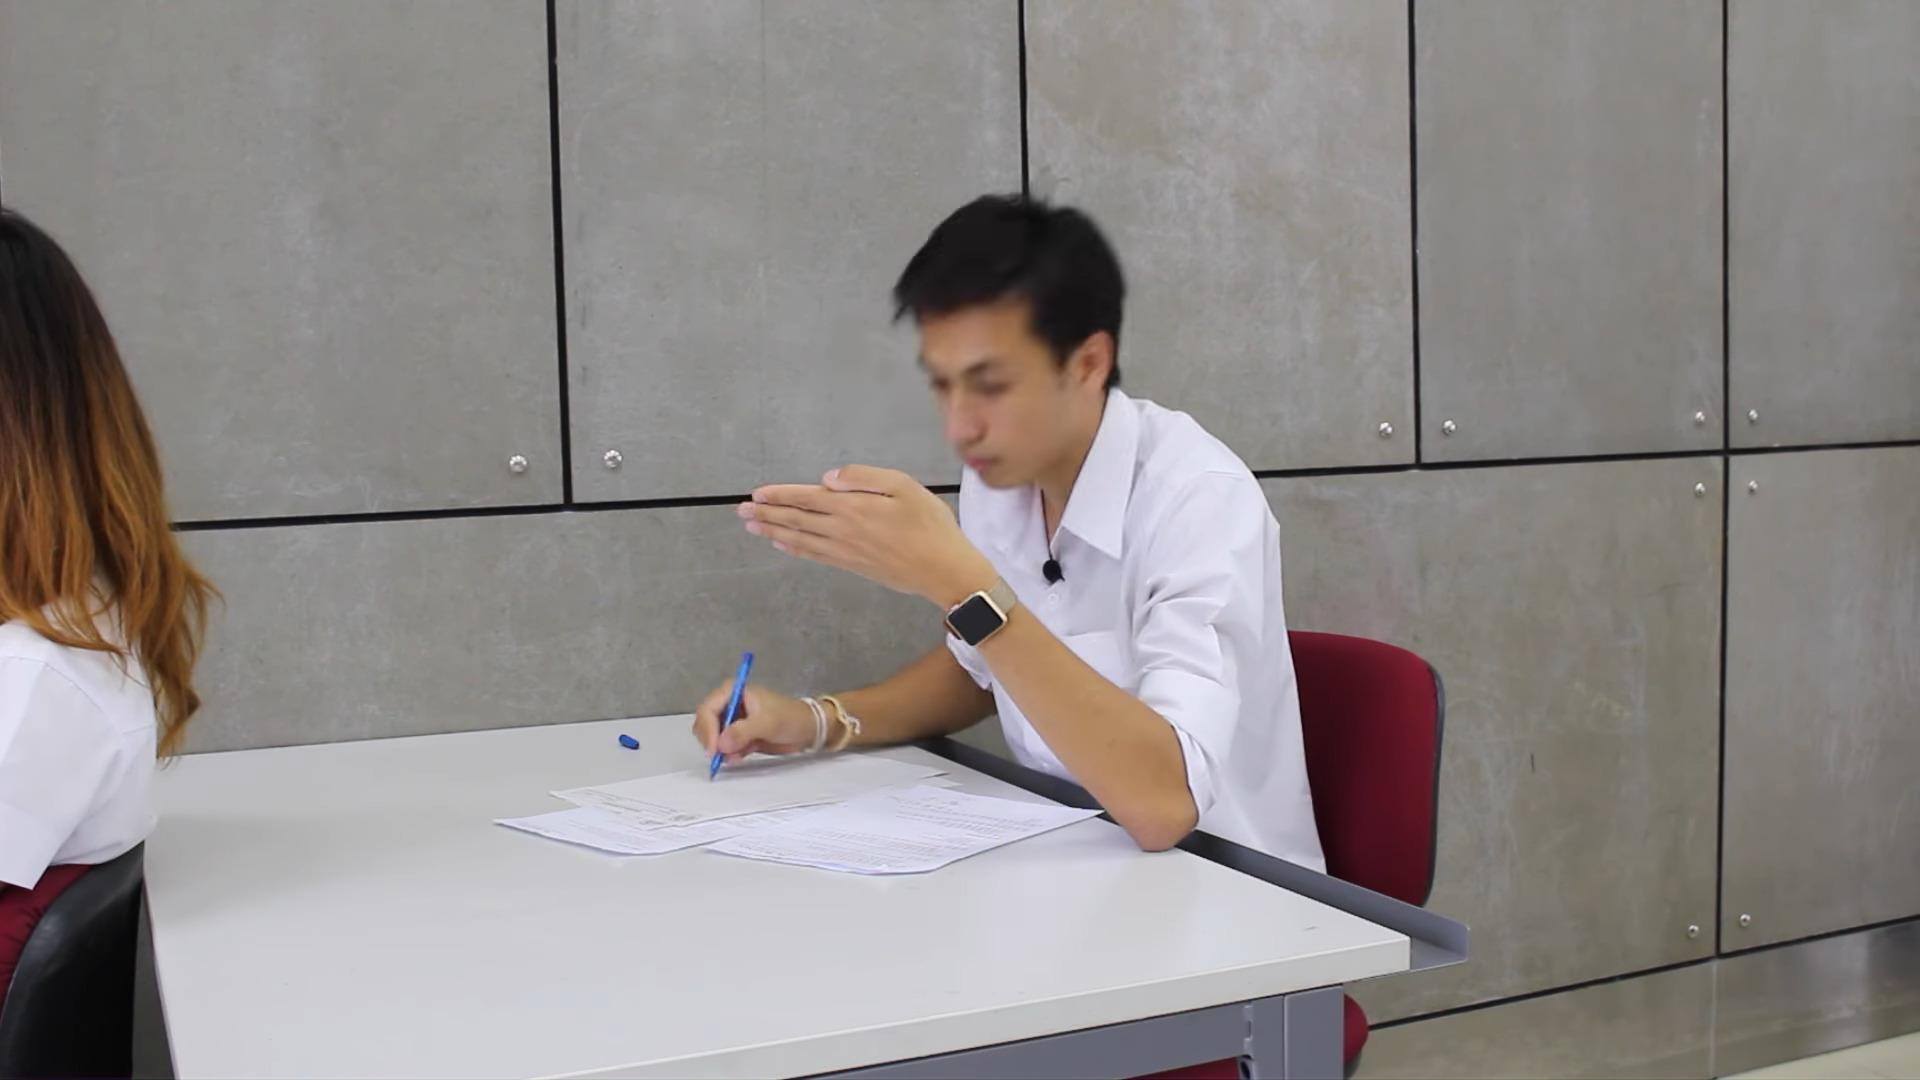cheating: (460, 170, 1353, 949)
